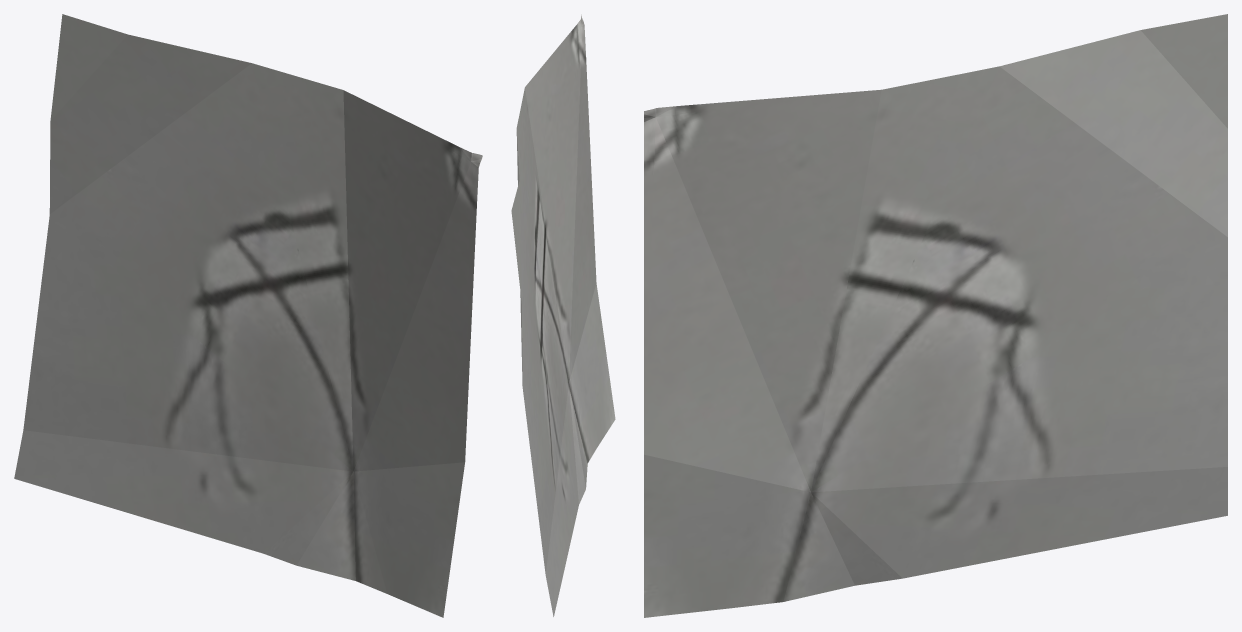
3 views of the same model, side by side, from view 1: azimuth 30°, elevation 25°; view 2: azimuth 150°, elevation 25°; view 3: azimuth 270°, elevation 25° (orthographic). The views are drawn at different scales.
Size of the model in its own units: 0.423 by 0.8373 by 0.8374.
3 materials, 3 textured.
